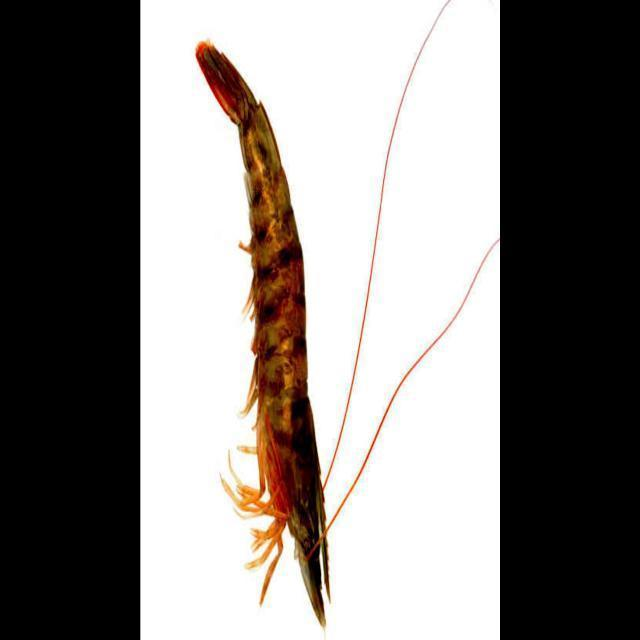shrimp: (197, 43, 329, 627)
